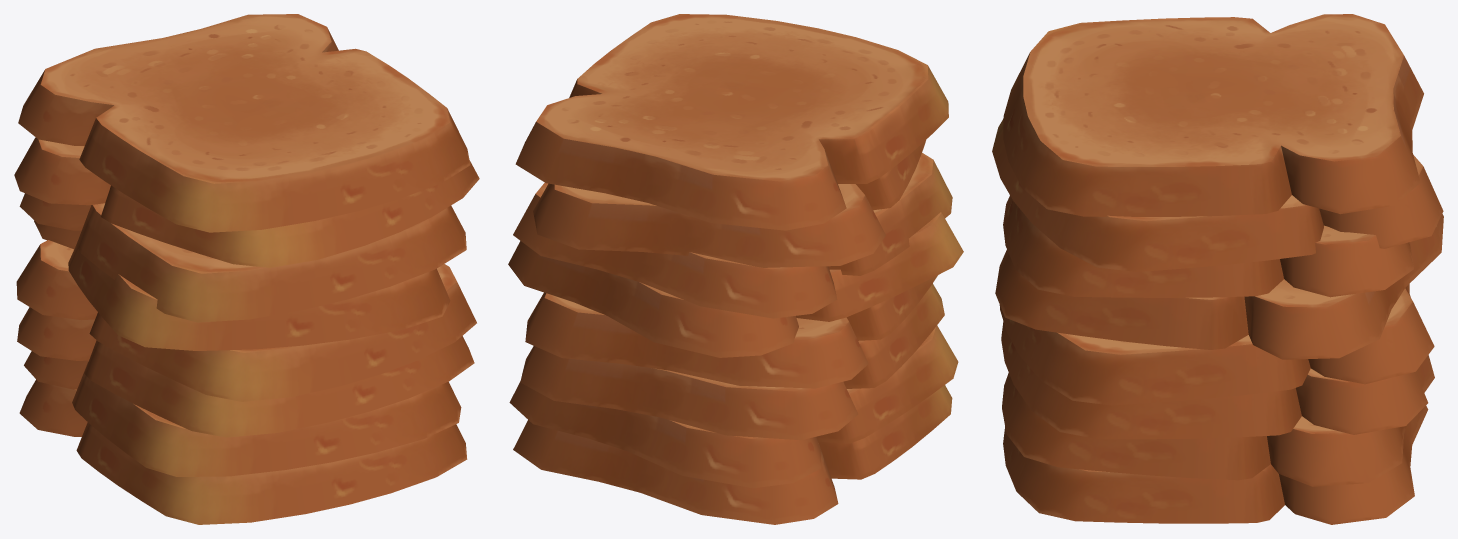
File: paindemiestack.fbx
The picture shows the model from 3 angles, left to right: view 1: azimuth 30°, elevation 25°; view 2: azimuth 150°, elevation 25°; view 3: azimuth 270°, elevation 25°; orthographic projection. The views are drawn at different scales.
Visible parts, largest first — view 1: paindemiestack; view 2: paindemiestack; view 3: paindemiestack.
Part boxes in pixels (bbox=[...]): paindemiestack: bbox=[14, 14, 479, 524]; paindemiestack: bbox=[508, 14, 963, 524]; paindemiestack: bbox=[992, 14, 1443, 524].
Bounding box in the file's own units: 29.66 × 26.02 × 30.02.
